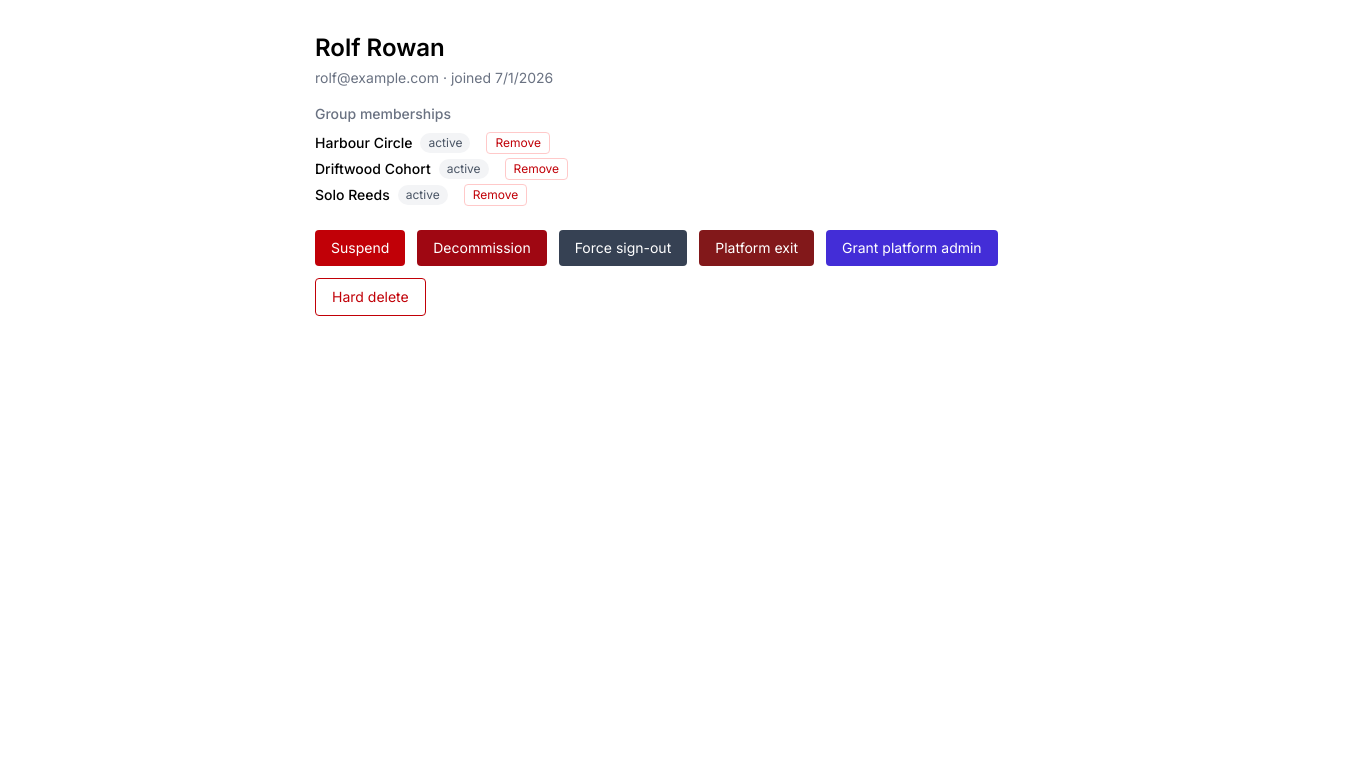
Scenario: AdminMemberDetail (FEAT-H036 STORY-2..6) › WA-4 Force sign-out: ceremony states the instant behaviour (hedge retired); success reports the platform count
Expected: the heading "Rolf Rowan" is shown, [315, 32, 445, 64]
Click the button with test id "force-logout-member" at (623, 248), box [559, 230, 687, 266]
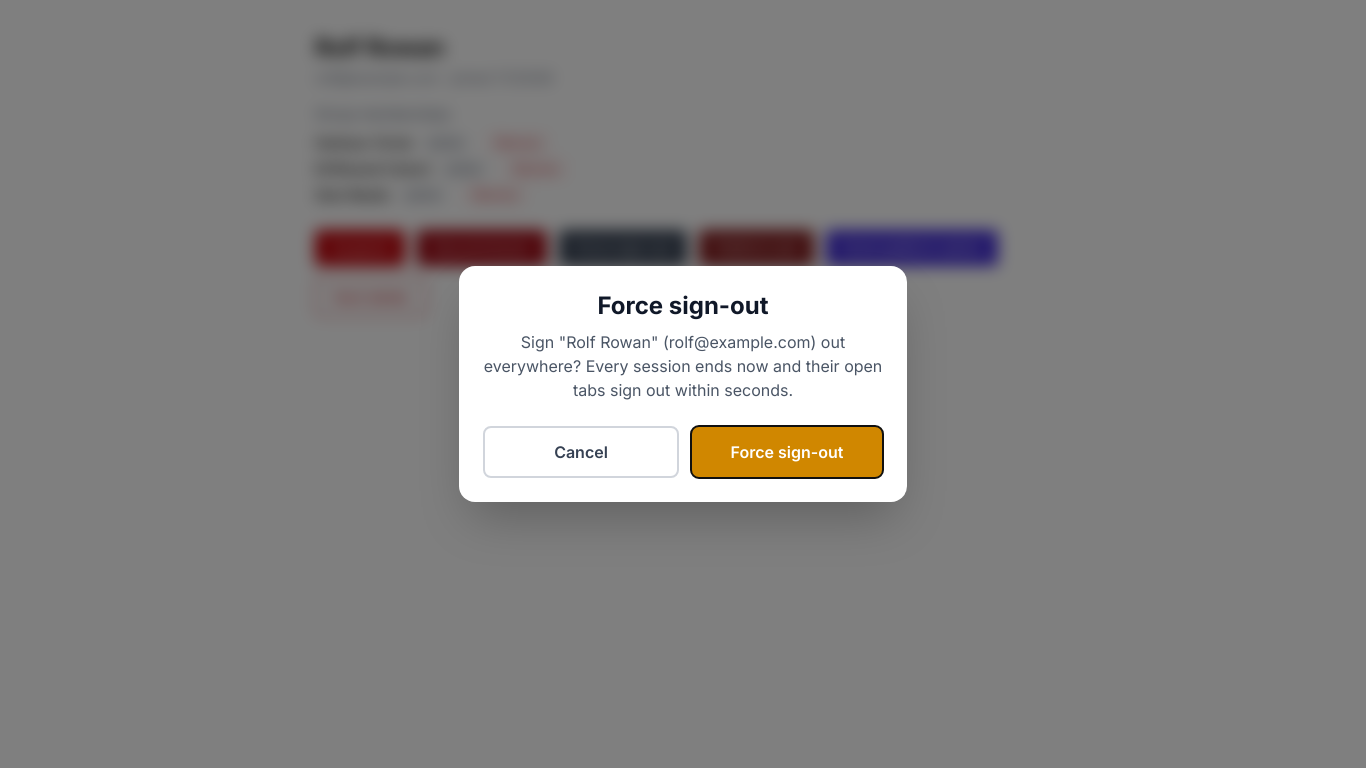
Now the text "open tabs sign out within seconds" is shown, box [484, 332, 882, 400]
Click the button "Force sign-out" at (787, 452), box [691, 426, 883, 478]
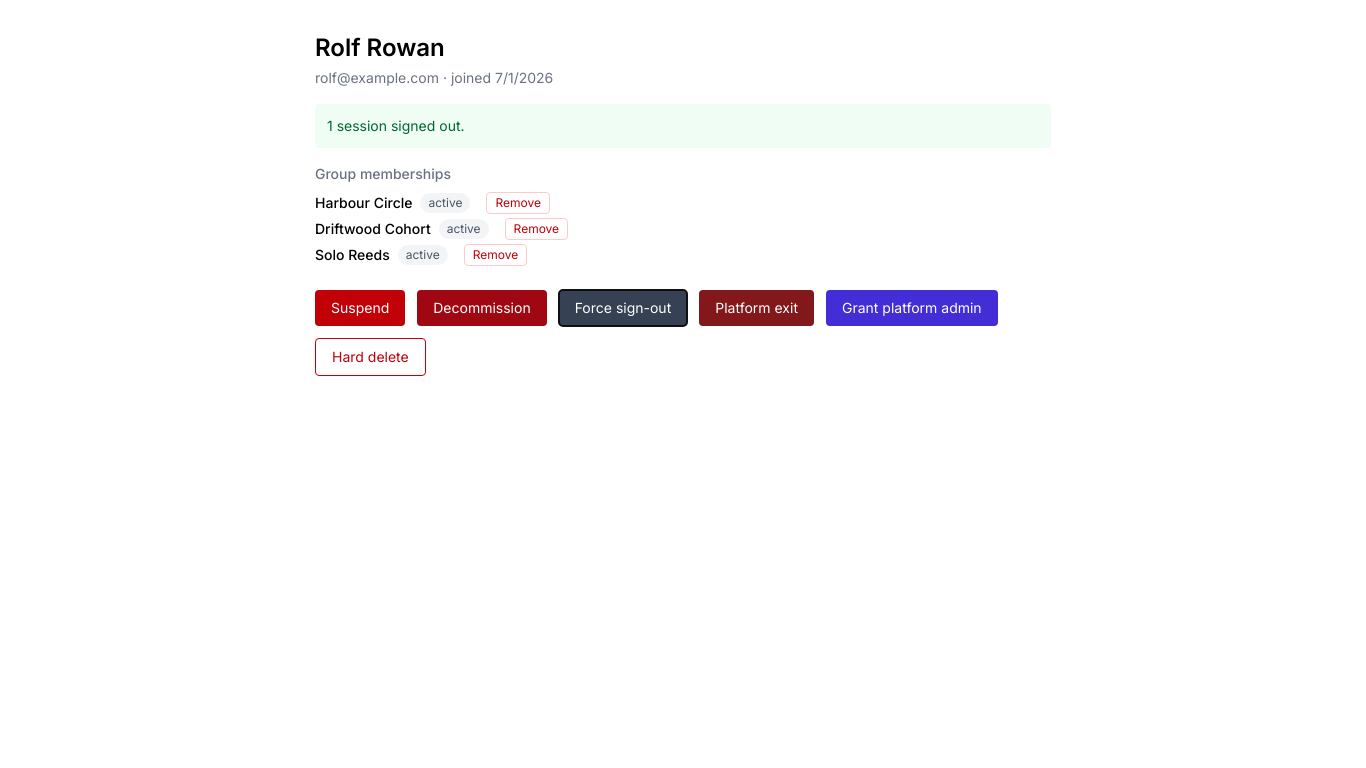
Now the message with test id "action-success" shows "1 session", box [327, 117, 465, 134]
